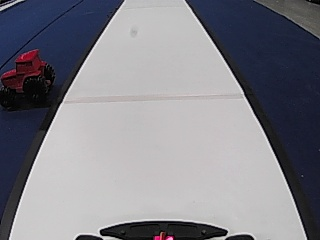tractor: (0, 48, 55, 111)
